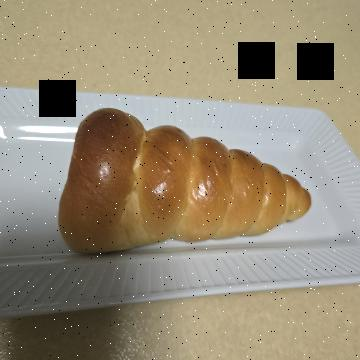cream horn: (102, 40, 288, 323)
